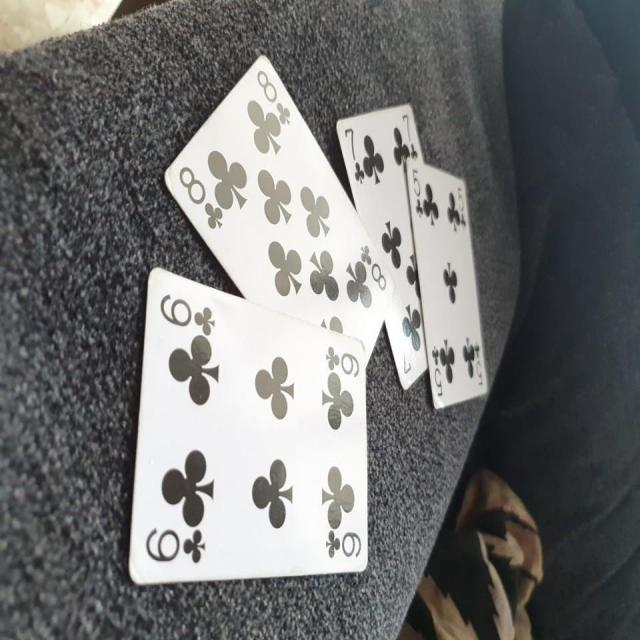5 Trefoils: (405, 157, 492, 410)
6 Trefoils: (124, 266, 371, 589)
7 Trefoils: (336, 100, 429, 394)
8 Trefoils: (163, 54, 397, 372)
